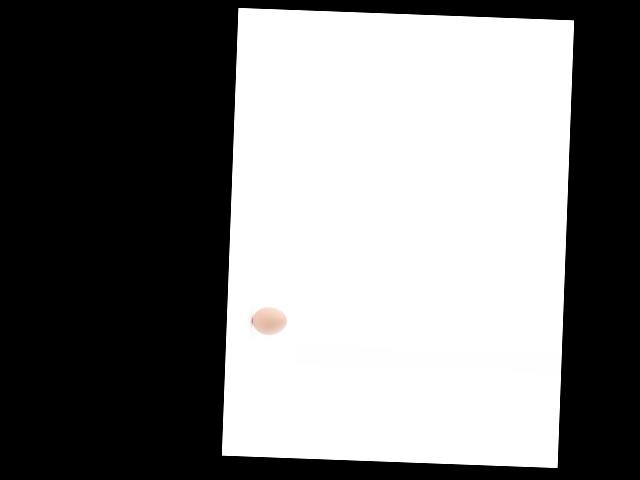egg: (251, 307, 287, 336)
